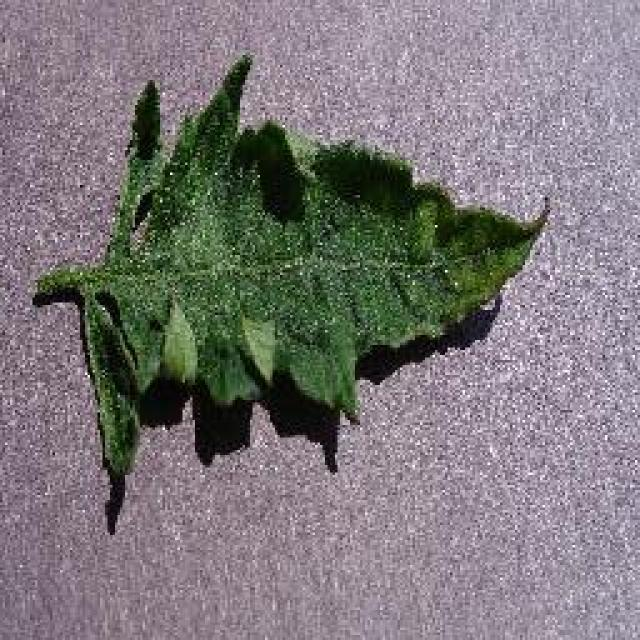Tomato spider mites leaf: (60, 53, 552, 475)
